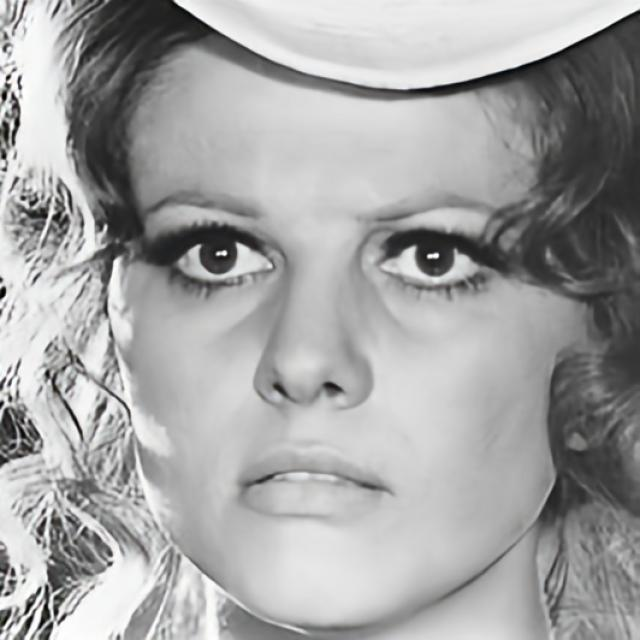neutral: (131, 76, 568, 633)
